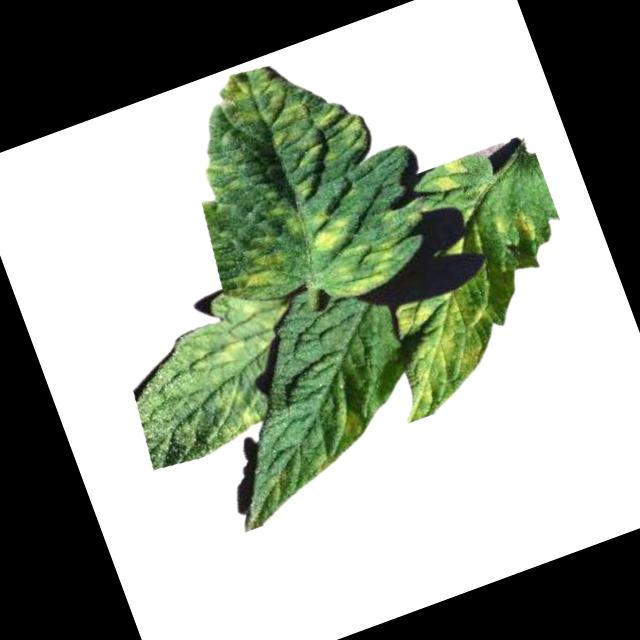Leaf_Mold: (212, 38, 385, 217), (370, 269, 529, 421), (159, 282, 299, 389), (313, 227, 410, 306), (197, 376, 267, 446), (280, 197, 353, 261), (235, 241, 294, 299), (487, 199, 541, 252), (321, 397, 367, 451), (423, 154, 474, 198), (302, 449, 337, 479)
